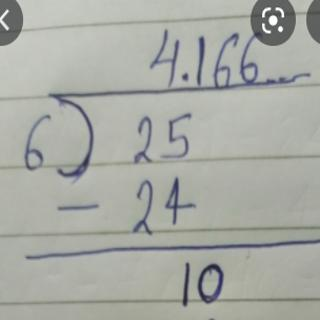.: (181, 66, 194, 81)
0: (197, 262, 227, 304)
1: (194, 33, 210, 83), (183, 261, 190, 310)
2: (136, 178, 154, 238), (135, 114, 155, 167)
4: (150, 30, 183, 84), (162, 176, 198, 225)
5: (166, 112, 196, 159)
6: (20, 107, 54, 169), (211, 30, 241, 86), (240, 30, 266, 83)
